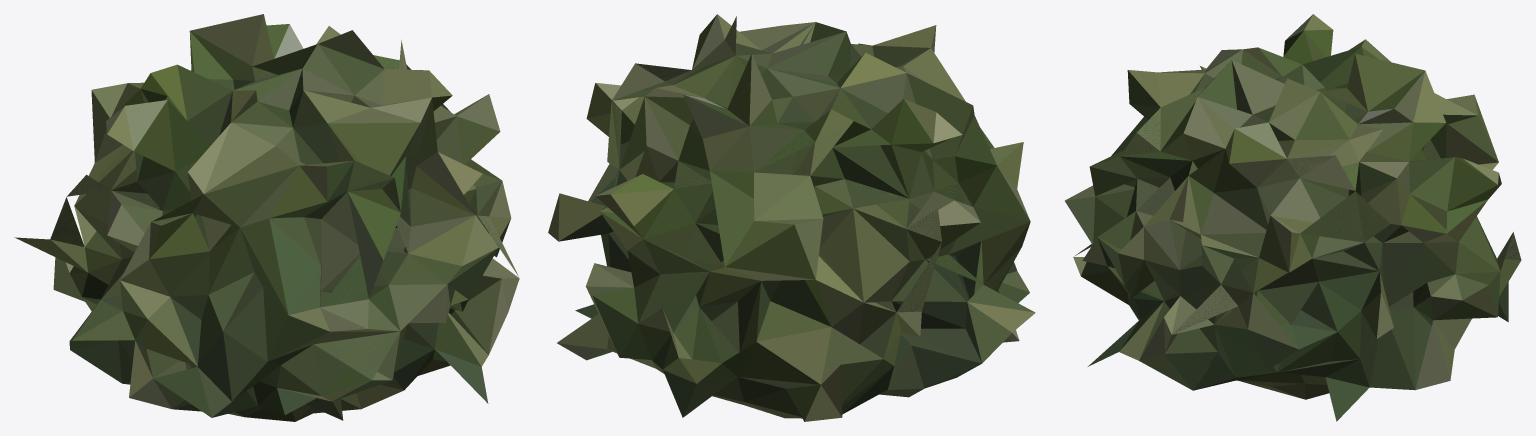
File: mn_shrub.glb
3 views of the same model, side by side, from view 1: azimuth 30°, elevation 25°; view 2: azimuth 150°, elevation 25°; view 3: azimuth 270°, elevation 25° (orthographic). The views are drawn at different scales.
Parts seen in each view (by area): view 1: mn_shrub; view 2: mn_shrub; view 3: mn_shrub.
Boxes of the visible parts, left/top/right/bottom form: mn_shrub: left=14, top=14, right=519, bottom=421; mn_shrub: left=548, top=14, right=1035, bottom=421; mn_shrub: left=1065, top=14, right=1521, bottom=421.
Size of what is drawn, in the model's own units: 1.47 by 1.09 by 1.44.
